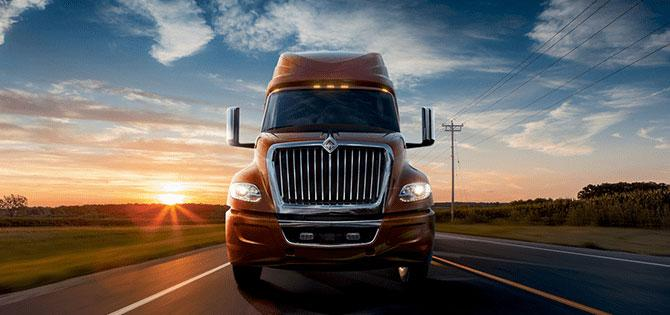truck: (226, 50, 437, 289)
